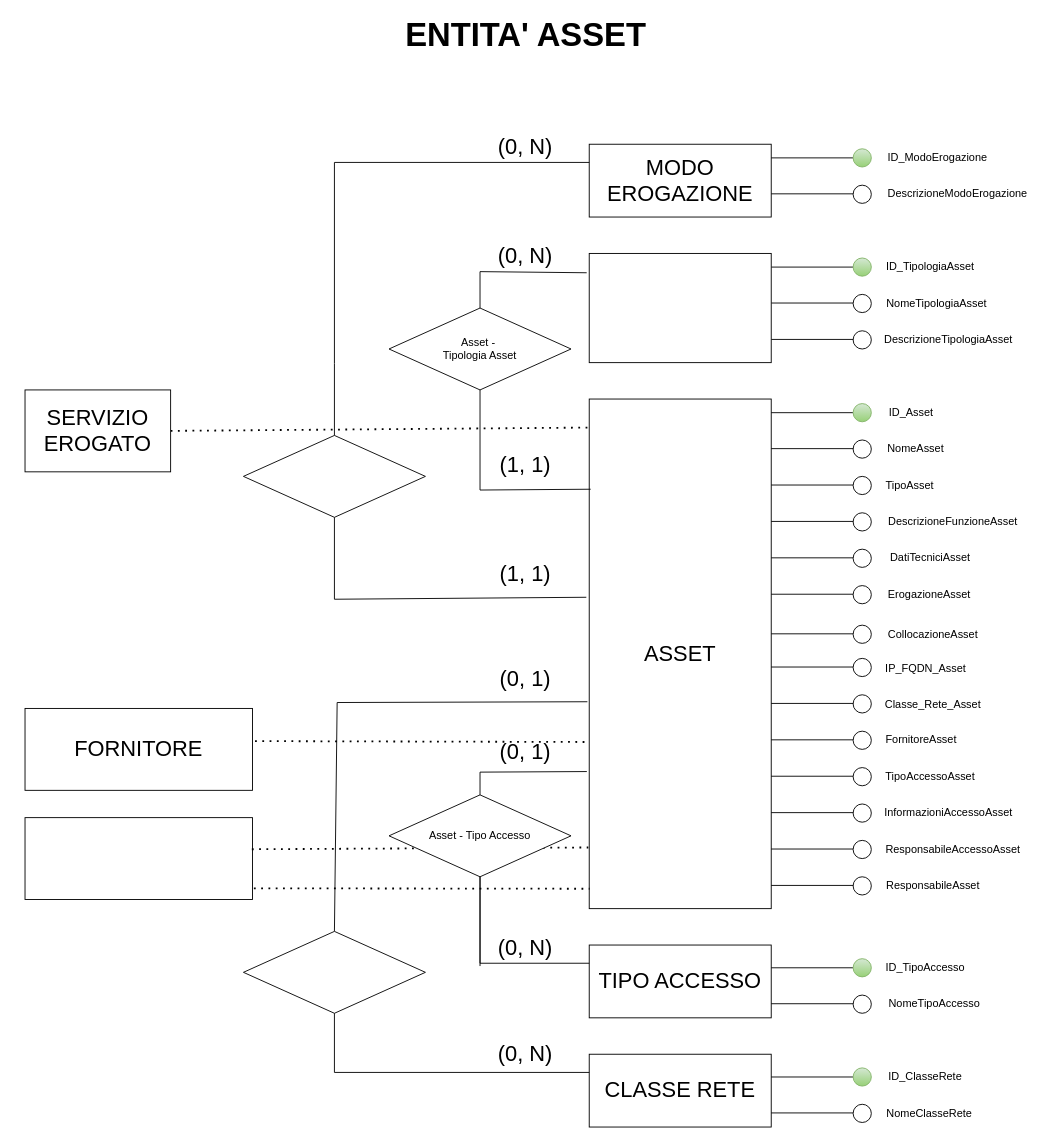
Image size: 1050x1143. Some labels were removed from this diagram. Each missing label, with the centre of its shape:
Asset - Classe Rete: [334,971]
Asset - Modo Erogazione: [334,476]
RESPONSABILITA' ORGANIZZATIVA: [138,858]
TIPOLOGIA ASSET: [679,308]
